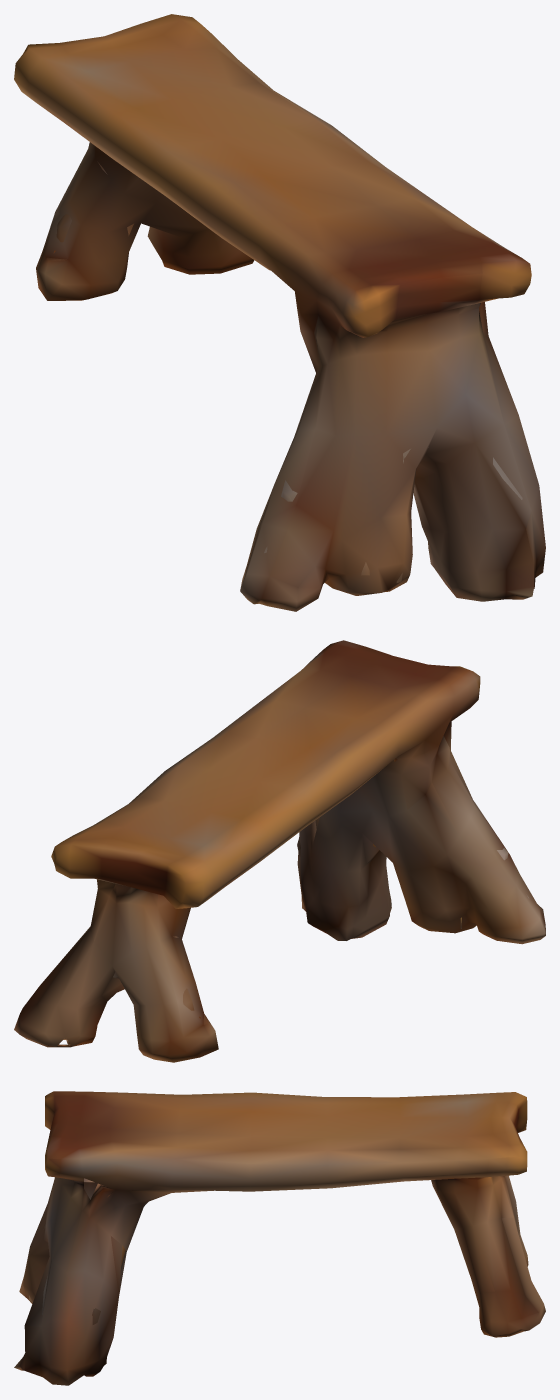
Rendered from 6053007-bench-rustic.glb.
3 views of the same model, one above another, from view 1: azimuth 30°, elevation 25°; view 2: azimuth 150°, elevation 25°; view 3: azimuth 270°, elevation 25° (orthographic). The views are drawn at different scales.
Visible parts, largest first — view 1: Retopo_neural_node_feeb92d7-751e-4b01-9b93-9573f15a2d39; view 2: Retopo_neural_node_feeb92d7-751e-4b01-9b93-9573f15a2d39; view 3: Retopo_neural_node_feeb92d7-751e-4b01-9b93-9573f15a2d39.
Boxes of the visible parts, left/top/right/bottom form: Retopo_neural_node_feeb92d7-751e-4b01-9b93-9573f15a2d39: left=14, top=14, right=545, bottom=611; Retopo_neural_node_feeb92d7-751e-4b01-9b93-9573f15a2d39: left=14, top=640, right=545, bottom=1062; Retopo_neural_node_feeb92d7-751e-4b01-9b93-9573f15a2d39: left=14, top=1091, right=545, bottom=1385.
Bounding box in the file's own units: 0.4709 × 0.4594 × 0.9389.
